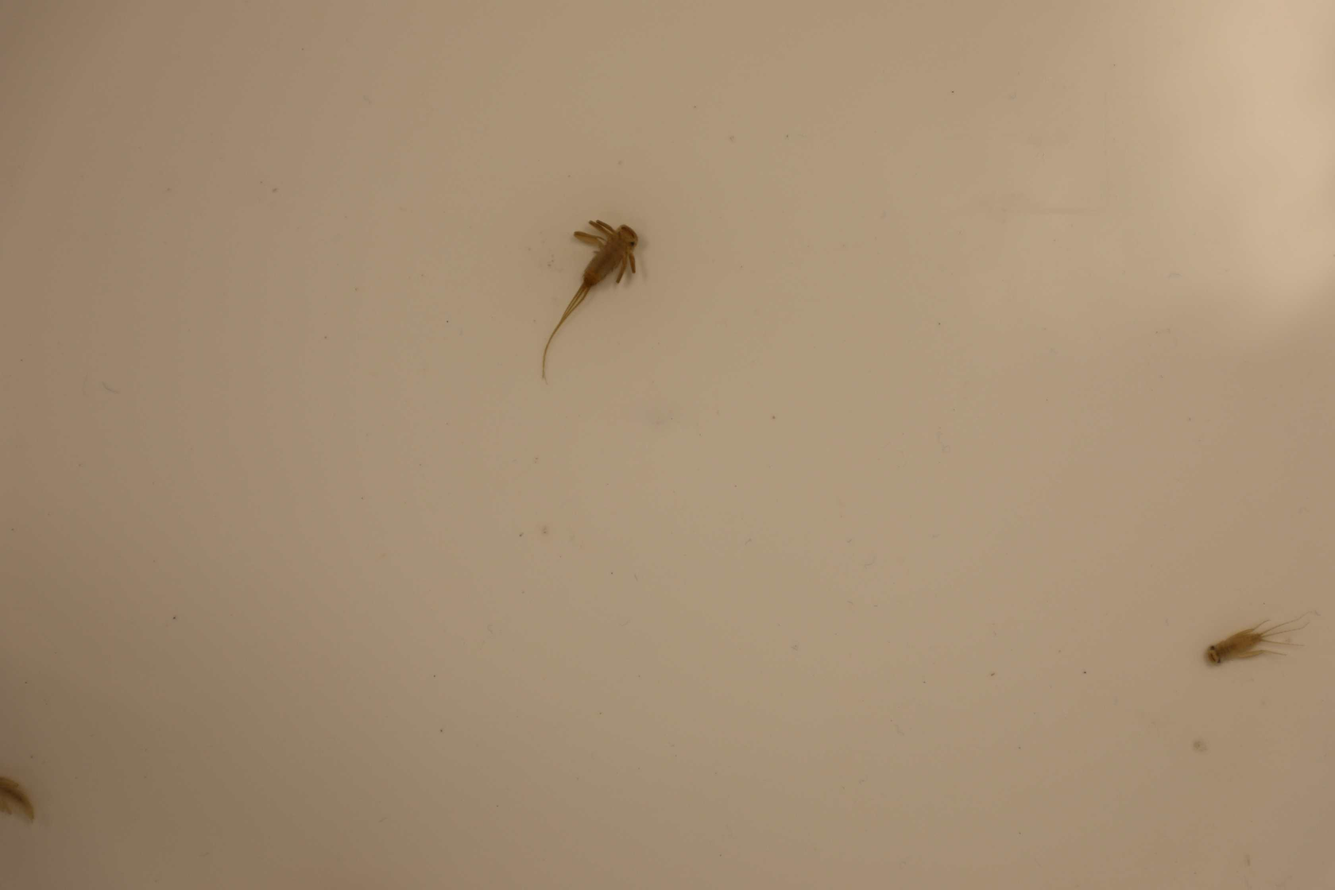Mayfly: (539, 217, 641, 382), (1203, 610, 1312, 679), (0, 769, 38, 828)
